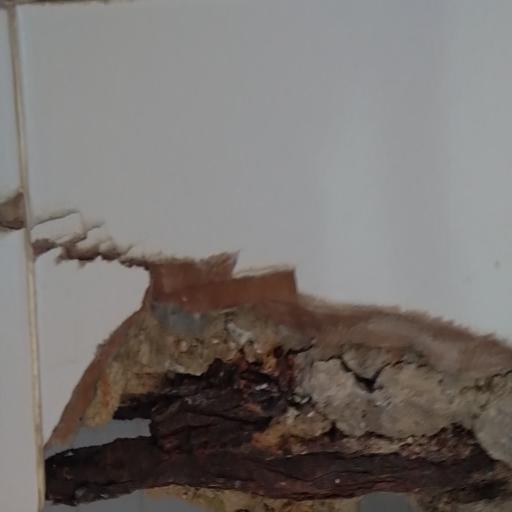spalling: (43, 246, 512, 508)
